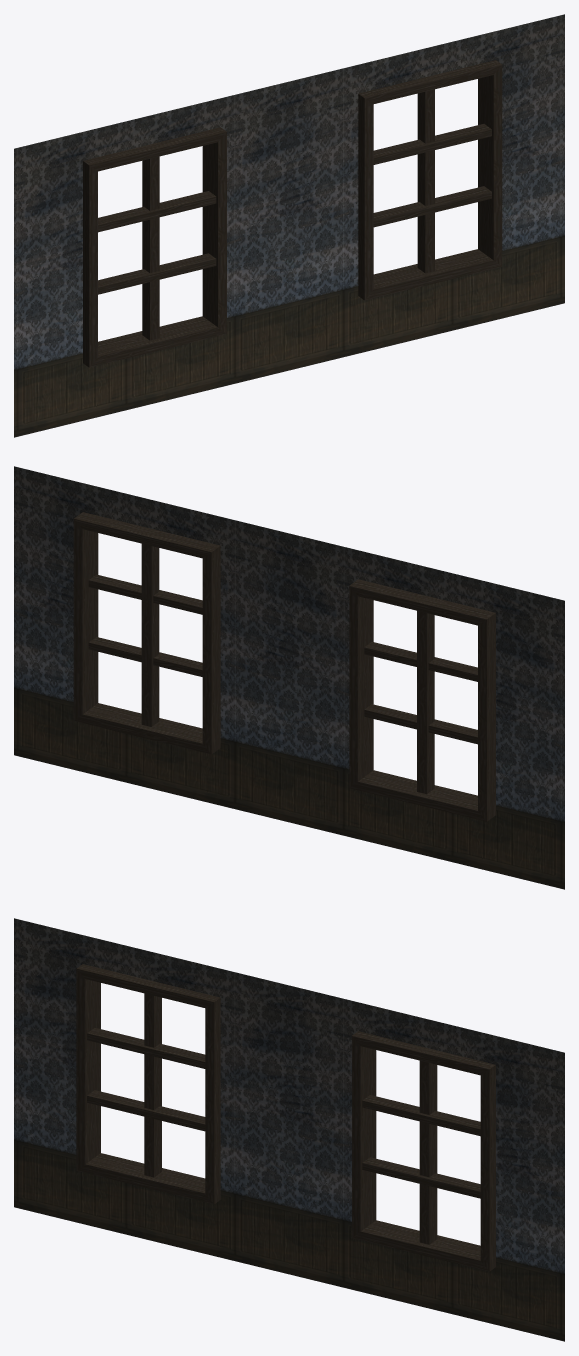
Rendered from Mansion_wall_window.FBX.
3 views of the same model, one above another, from view 1: azimuth 30°, elevation 25°; view 2: azimuth 150°, elevation 25°; view 3: azimuth 330°, elevation 25° (orthographic).
Visible parts, largest first — view 1: wand_fenster, fenster; view 2: wand_fenster, fenster; view 3: wand_fenster, fenster.
Part boxes in pixels (x1,y1,x2,y2): wand_fenster: (14,14,564,437); fenster: (83,60,502,367); wand_fenster: (14,466,564,889); fenster: (73,512,495,821); wand_fenster: (14,918,564,1341); fenster: (76,964,495,1271).
Size of the model in its own units: 798 by 400 by 39.01.
